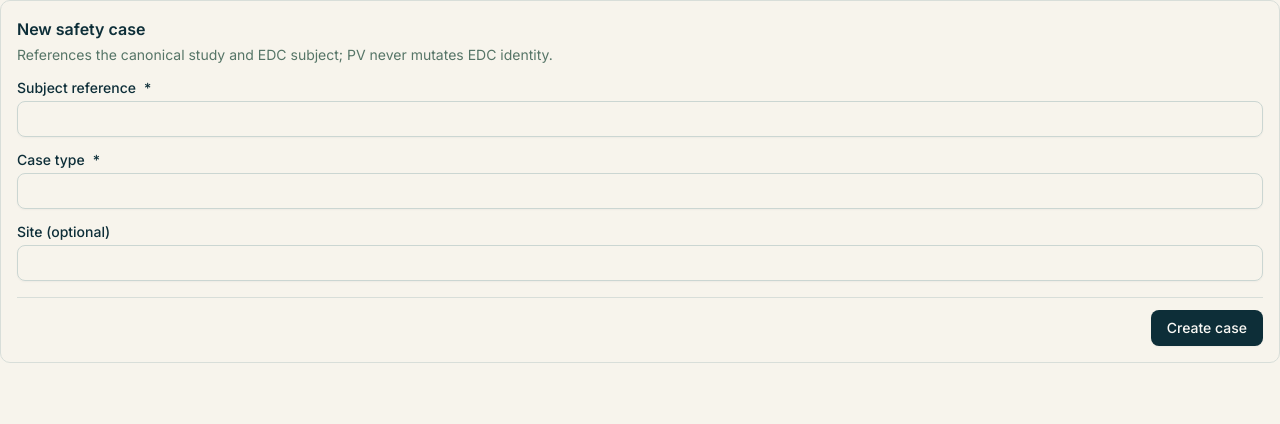
Scenario: PV forms — API stays authoritative, no request on invalid input › does not send a create request when intake fails Zod validation
Click the button "Create case": (1207, 328) [1151,310,1263,346]
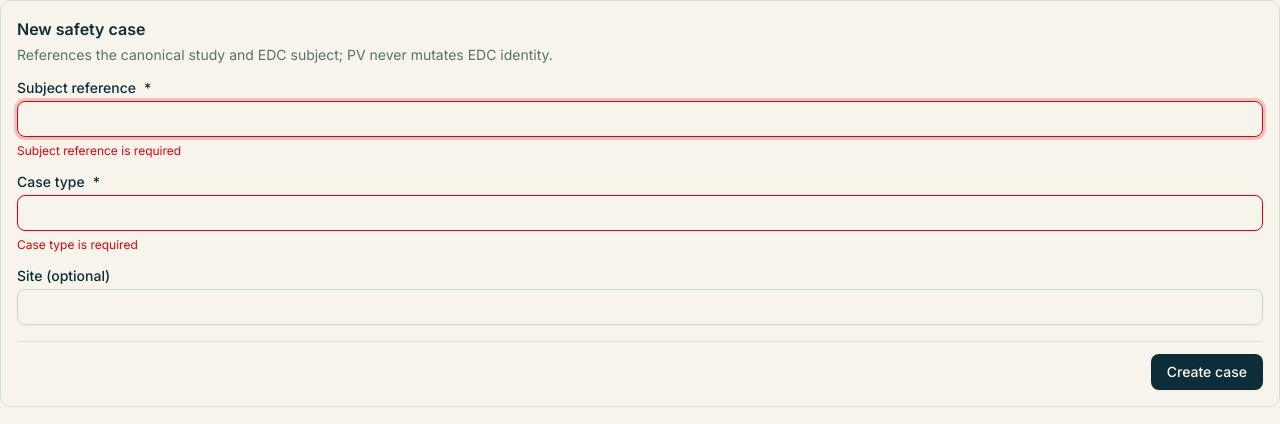
expect the text "Subject reference is required" is shown: met, box [17,143,181,158]
